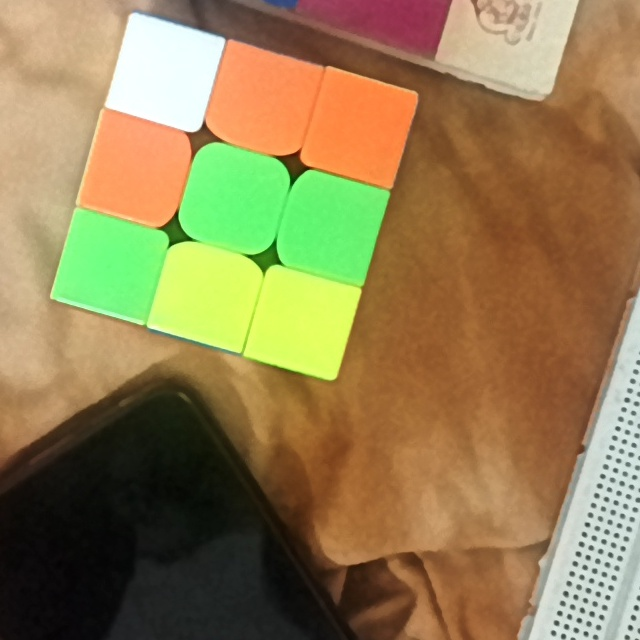tile: (318, 91, 398, 169), (194, 161, 272, 239), (97, 131, 179, 204), (219, 68, 297, 140), (127, 39, 203, 110), (70, 237, 149, 304), (264, 291, 343, 355), (293, 194, 366, 263), (164, 267, 243, 328)
